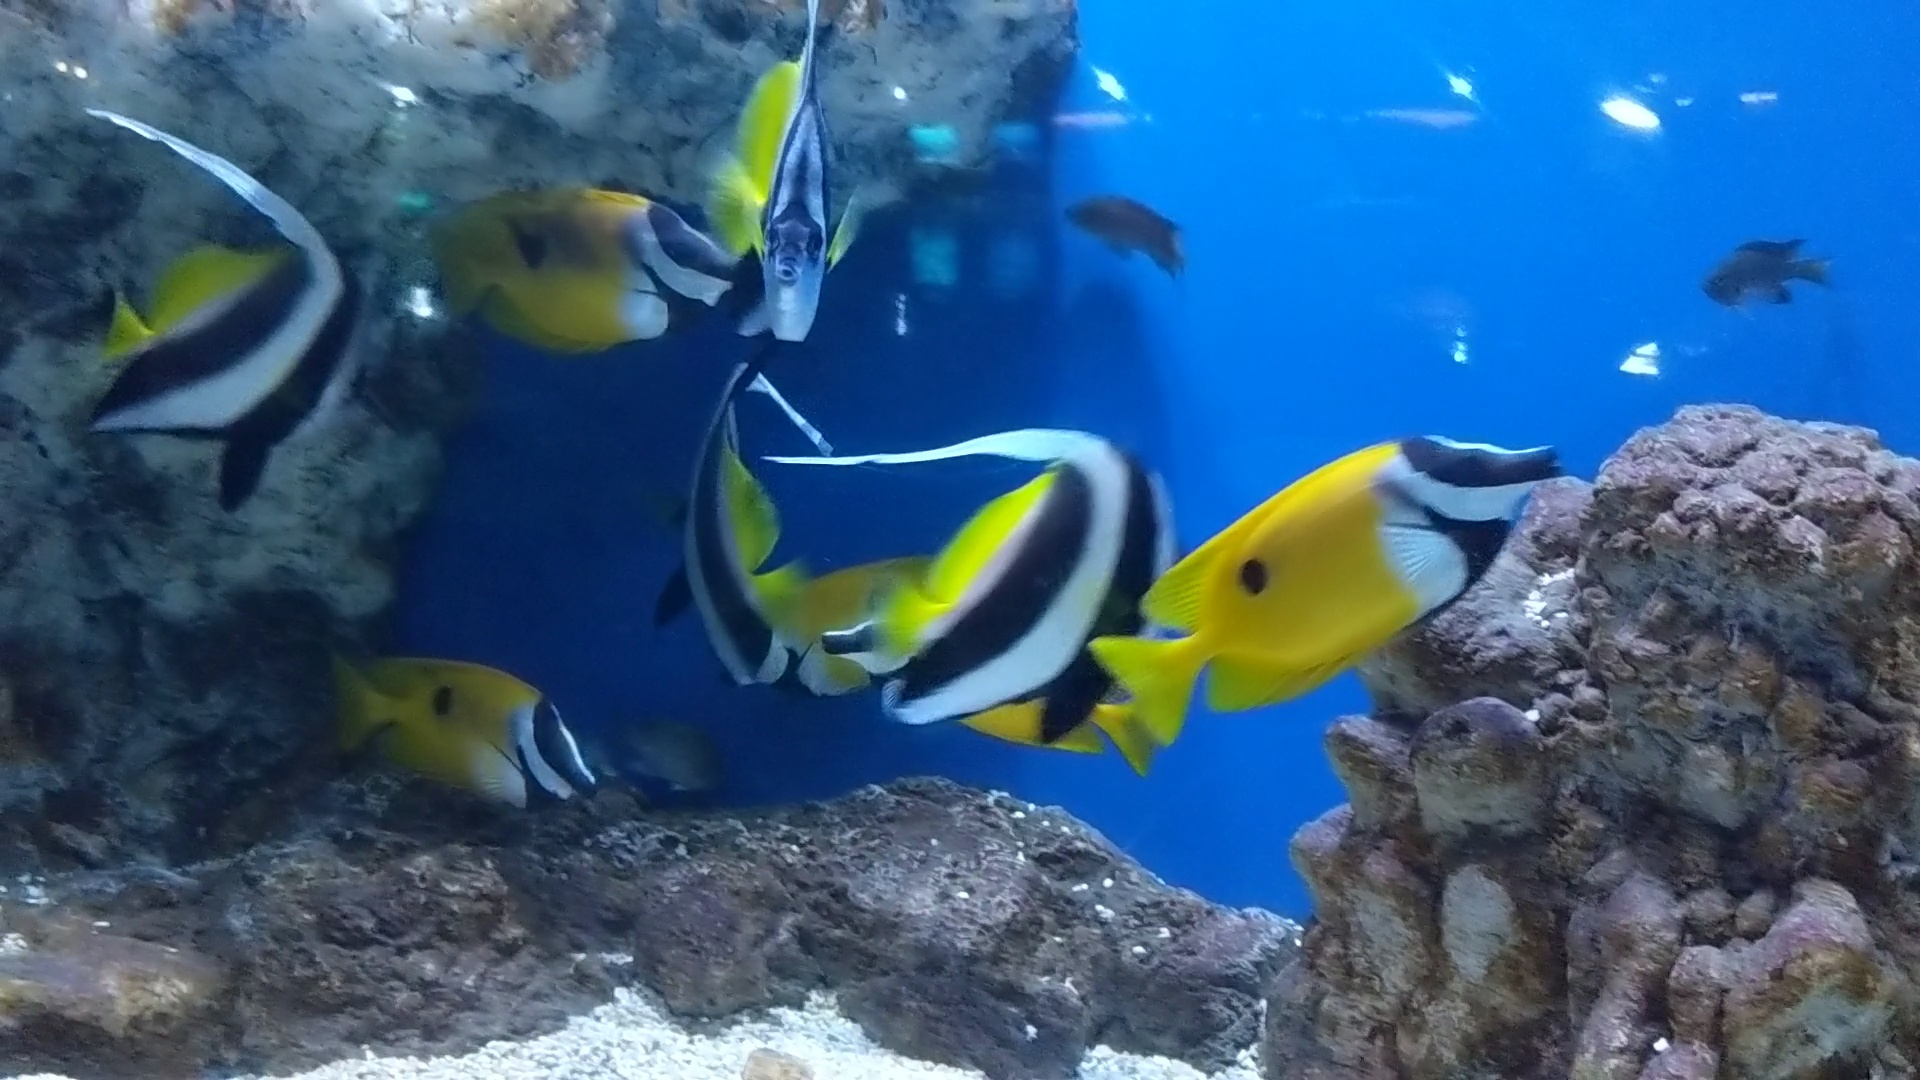moorfish: (800, 410, 1176, 781), (61, 84, 367, 522), (657, 375, 808, 712), (700, 7, 851, 340)
rabbitfish: (1102, 429, 1540, 750), (285, 622, 607, 832), (421, 193, 711, 356)
